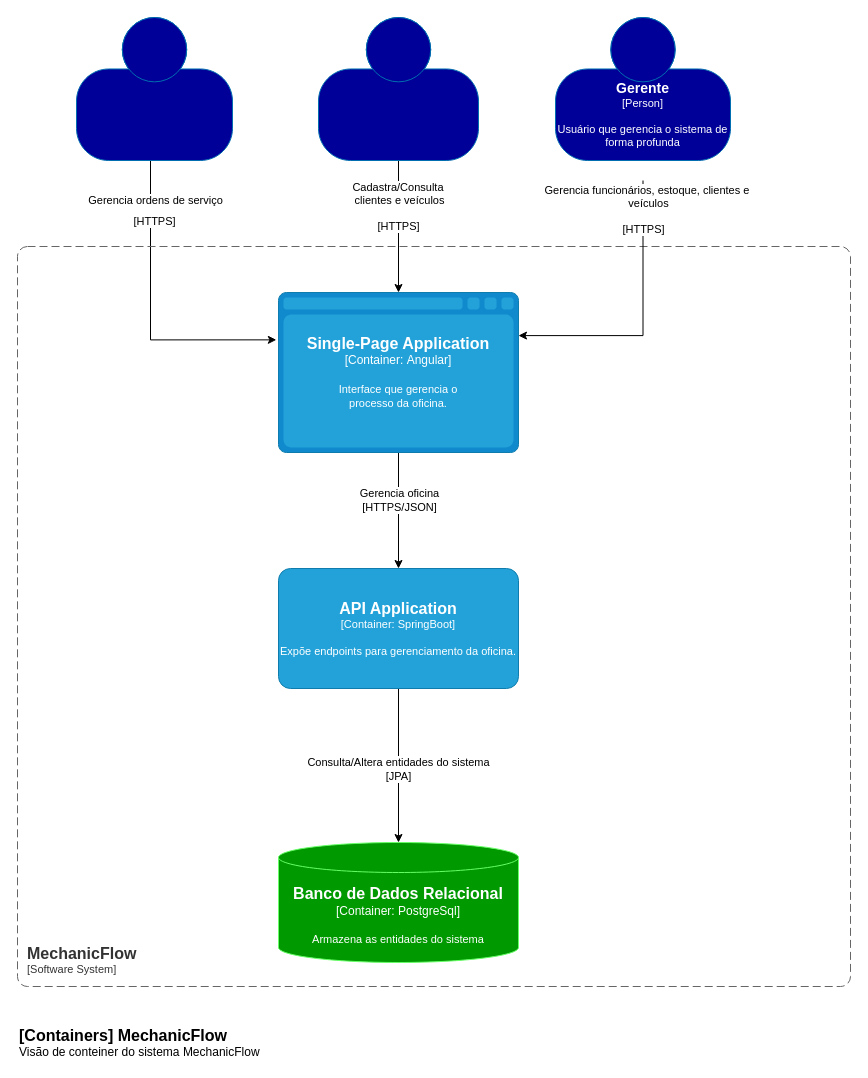
Image size: 868x1078. Some labels were removed from this diagram. Here are the shapes that lost their labels. From the top down, the centre of each, then its label:
point (154, 88): Mecânico [Person] Usuário que gerencia ordens de serviço.
point (398, 88): Recepcionista [Person] Usuário que realiza cadastro de clientes e veículos.
